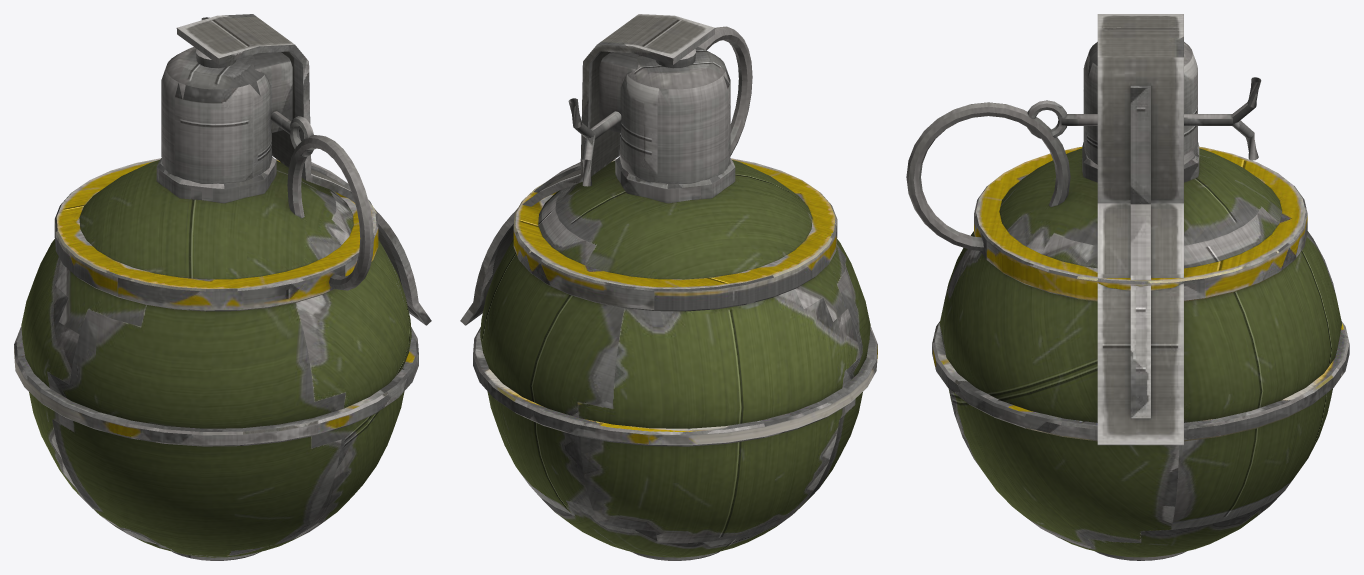
The model's file is frag_grenade.glb.
The picture shows the model from 3 angles, left to right: view 1: azimuth 30°, elevation 25°; view 2: azimuth 150°, elevation 25°; view 3: azimuth 270°, elevation 25°; orthographic projection. The views are drawn at different scales.
Parts seen in each view (by area): view 1: body, band, fuze_body, seam, spoon, pull_ring, fuze_neck, fuze_striker, pin_eye; view 2: body, band, fuze_body, spoon, seam, fuze_neck, pull_ring, fuze_striker; view 3: body, spoon, band, seam, spoon_rib, pull_ring, fuze_body, pin, fuze_neck, pin_eye.
Boxes of the visible parts, <box> form: body: <box>21,160,411,557</box>; band: <box>54,158,378,311</box>; fuze_body: <box>161,47,271,183</box>; seam: <box>14,327,418,446</box>; spoon: <box>176,14,431,325</box>; pull_ring: <box>287,135,373,290</box>; fuze_neck: <box>156,156,276,203</box>; fuze_striker: <box>244,52,292,132</box>; pin_eye: <box>290,116,313,156</box>; body: <box>480,160,870,557</box>; band: <box>513,158,837,311</box>; fuze_body: <box>620,47,730,183</box>; spoon: <box>460,14,715,325</box>; seam: <box>473,327,877,446</box>; fuze_neck: <box>615,156,735,203</box>; pull_ring: <box>698,26,752,155</box>; fuze_striker: <box>599,52,651,132</box>; body: <box>939,148,1341,557</box>; spoon: <box>1097,14,1183,445</box>; band: <box>974,146,1307,301</box>; seam: <box>932,321,1349,441</box>; spoon_rib: <box>1130,85,1150,418</box>; pull_ring: <box>906,102,1070,251</box>; fuze_body: <box>1083,42,1197,164</box>; pin: <box>1061,114,1232,125</box>; fuze_neck: <box>1082,142,1199,182</box>; pin_eye: <box>1027,100,1067,138</box>.
Bounding box in the file's own units: 0.0693 × 0.09 × 0.0699.
Materials: 1 (1 with a texture image).
